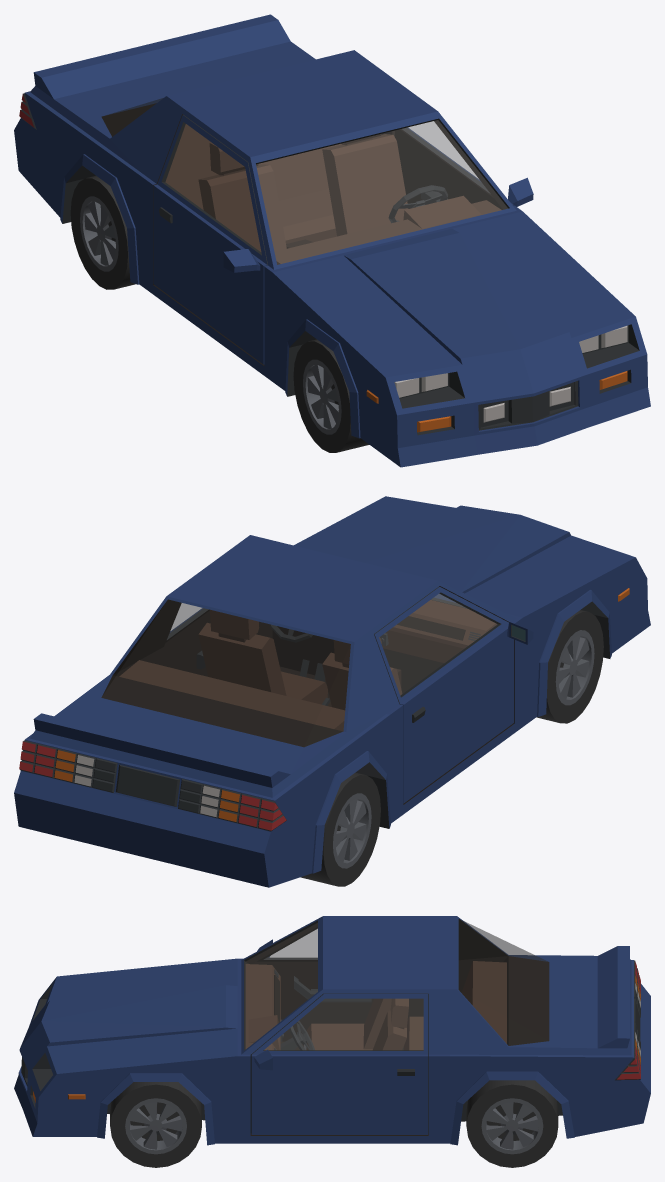
File: 08_COUPE.glb
3 renders of one model, top to bottom at view 1: azimuth 30°, elevation 25°; view 2: azimuth 150°, elevation 25°; view 3: azimuth 270°, elevation 25°, orthographic. The views are drawn at different scales.
Parts seen in each view (by area): view 1: 08_COUPE, INTERIOR, WINDOW F.002, DOOR R.002, WINDOW RD, WHEEL.1R.002, WHEEL.2R.002, DOOR L.002, WINDOW LD, WINDOW B; view 2: 08_COUPE, WINDOW B, INTERIOR, DOOR R.002, WINDOW RD, WHEEL.2R.002, WHEEL.1R.002, DOOR L.002; view 3: 08_COUPE, DOOR L.002, INTERIOR, WINDOW B, WHEEL.2L.002, WINDOW LD, WHEEL.1L.002, WINDOW F.002, DOOR R.002, WINDOW RD.
Part boxes in pixels (x1,y1,x2,y2): 08_COUPE: (14, 14, 650, 467); INTERIOR: (165, 124, 501, 264); WINDOW F.002: (256, 120, 507, 264); DOOR R.002: (153, 114, 267, 364); WINDOW RD: (166, 124, 260, 251); WHEEL.1R.002: (293, 339, 369, 452); WHEEL.2R.002: (70, 175, 135, 289); DOOR L.002: (395, 127, 533, 209); WINDOW LD: (403, 121, 488, 191); WINDOW B: (102, 98, 162, 136); 08_COUPE: (14, 496, 650, 887); WINDOW B: (102, 600, 350, 746); INTERIOR: (119, 600, 497, 731); DOOR R.002: (374, 586, 533, 803); WINDOW RD: (379, 594, 496, 694); WHEEL.2R.002: (300, 772, 380, 886); WHEEL.1R.002: (536, 610, 603, 723); DOOR L.002: (164, 608, 272, 676); 08_COUPE: (14, 916, 650, 1145); DOOR L.002: (250, 993, 428, 1134); INTERIOR: (245, 961, 506, 1050); WINDOW B: (459, 919, 548, 1045); WHEEL.2L.002: (466, 1080, 558, 1167); WINDOW LD: (265, 999, 423, 1049); WHEEL.1L.002: (110, 1082, 201, 1167); WINDOW F.002: (245, 923, 317, 1048); DOOR R.002: (252, 927, 423, 1041); WINDOW RD: (264, 929, 317, 959).
Size of the model in its own units: 2.09 by 1.36 by 4.73.
3 materials, 3 textured.
